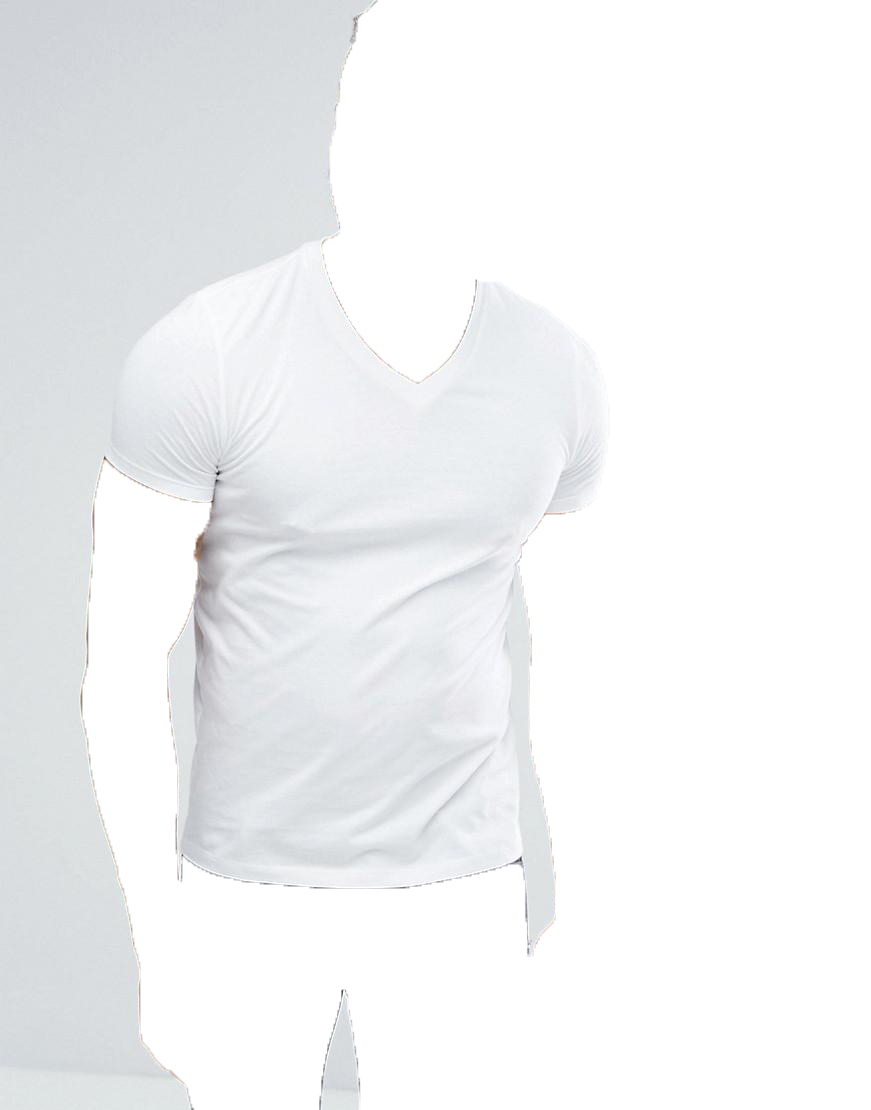teeshirt: (85, 232, 620, 898)
